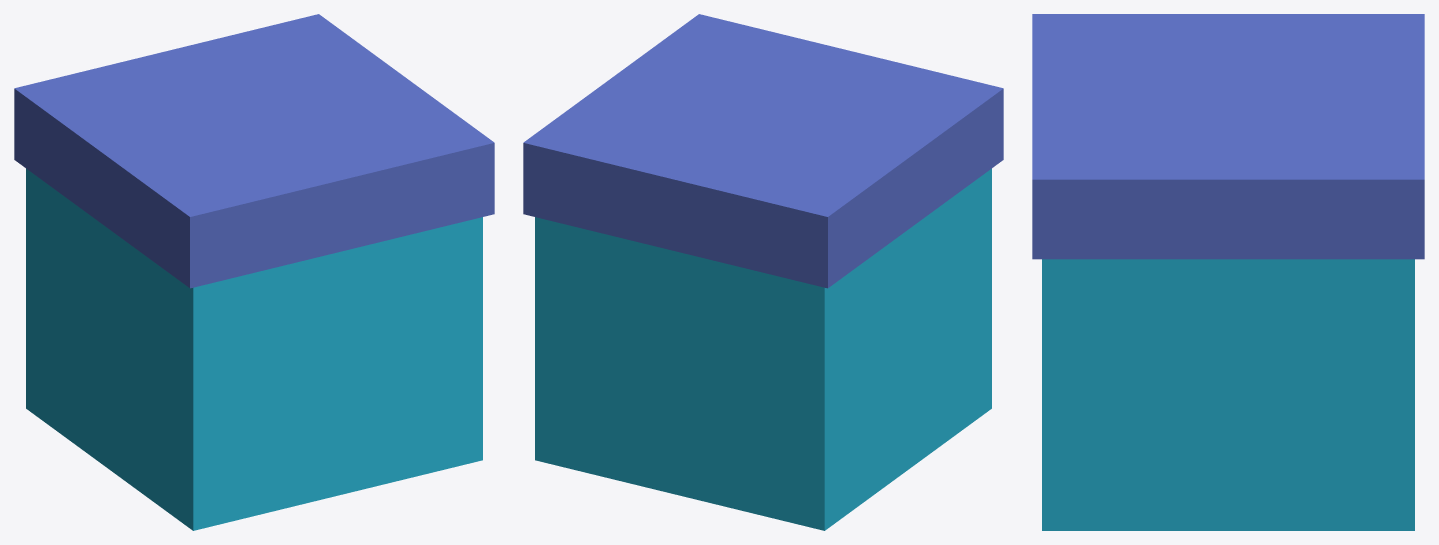
The model's file is SmallBox.fbx.
The picture shows the model from 3 angles, left to right: view 1: azimuth 30°, elevation 25°; view 2: azimuth 150°, elevation 25°; view 3: azimuth 270°, elevation 25°; orthographic projection. The views are drawn at different scales.
Parts seen in each view (by area): view 1: caixa sapato média; view 2: caixa sapato média; view 3: caixa sapato média.
Boxes of the visible parts, x1,y1,x2,y2 form: caixa sapato média: [14, 14, 494, 530]; caixa sapato média: [523, 14, 1003, 530]; caixa sapato média: [1032, 14, 1424, 530].
Size of the model in its own units: 100 by 100 by 100.
